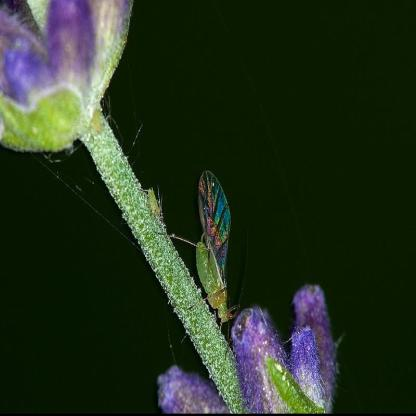aphid: (187, 164, 245, 337), (144, 179, 167, 229)
